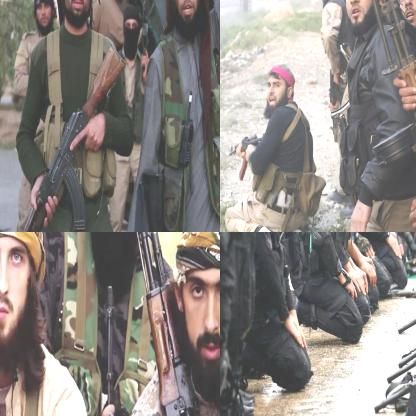rifle: (93, 232, 219, 415), (13, 40, 128, 231), (356, 0, 415, 231), (372, 300, 415, 415), (384, 320, 415, 415), (225, 130, 267, 184)
